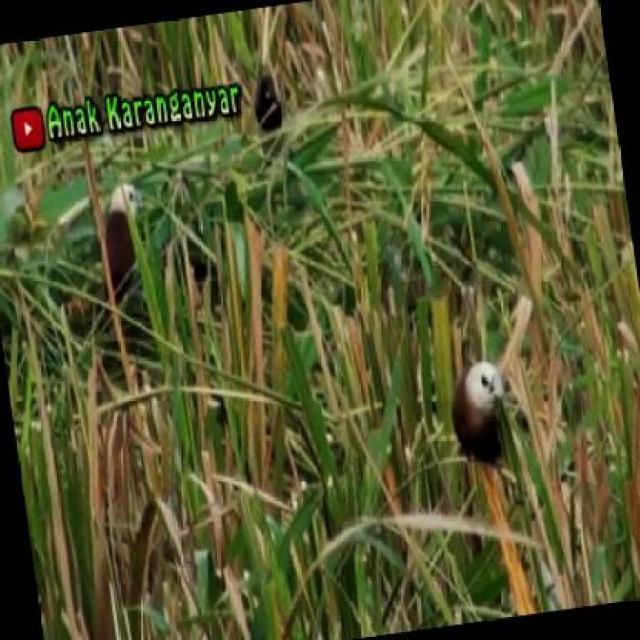Bird: (438, 352, 522, 483), (84, 171, 150, 298), (254, 70, 291, 137)
